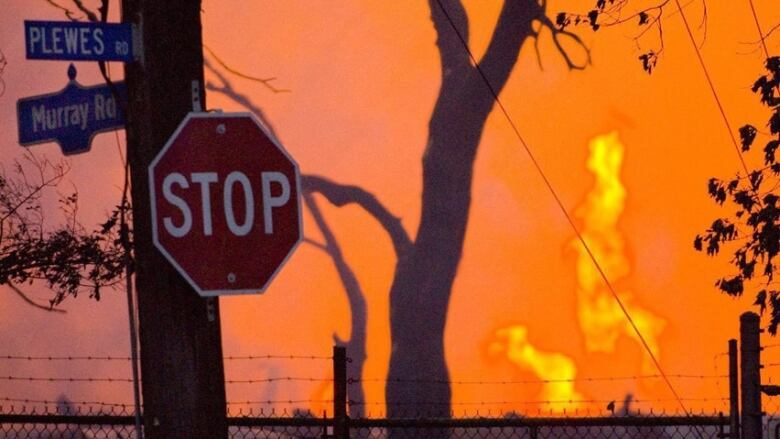stop: (147, 112, 303, 297)
